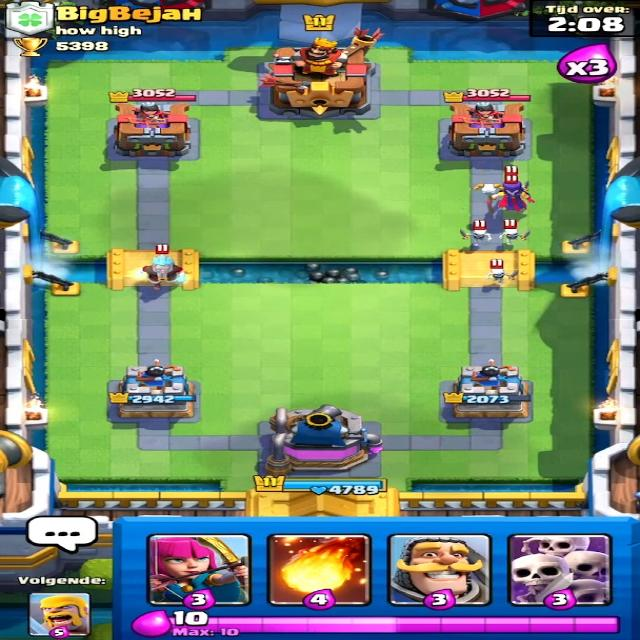Enemy_Ice_Wizard_Troop: (126, 257, 200, 295)
Enemy_Skeleton_Troop: (458, 225, 493, 252), (498, 222, 530, 247), (486, 264, 516, 290)
Enemy_Witch_Troop: (471, 181, 536, 219)
Fireball_Card: (262, 532, 370, 608)
